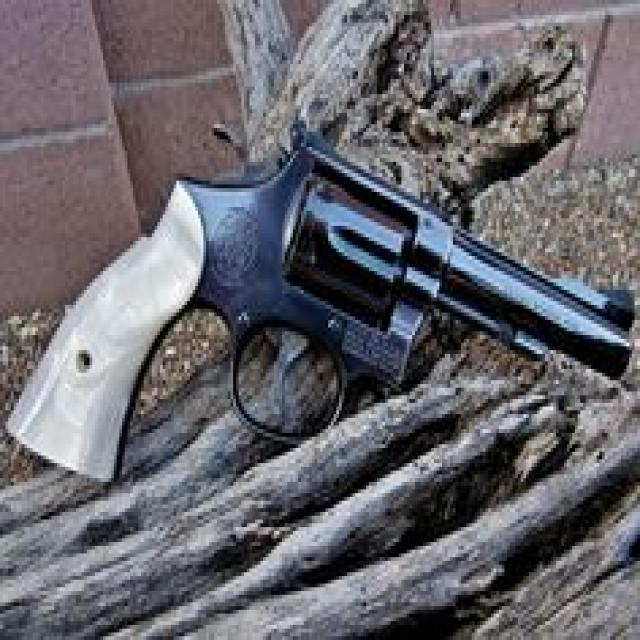revolver: (0, 32, 640, 554)
